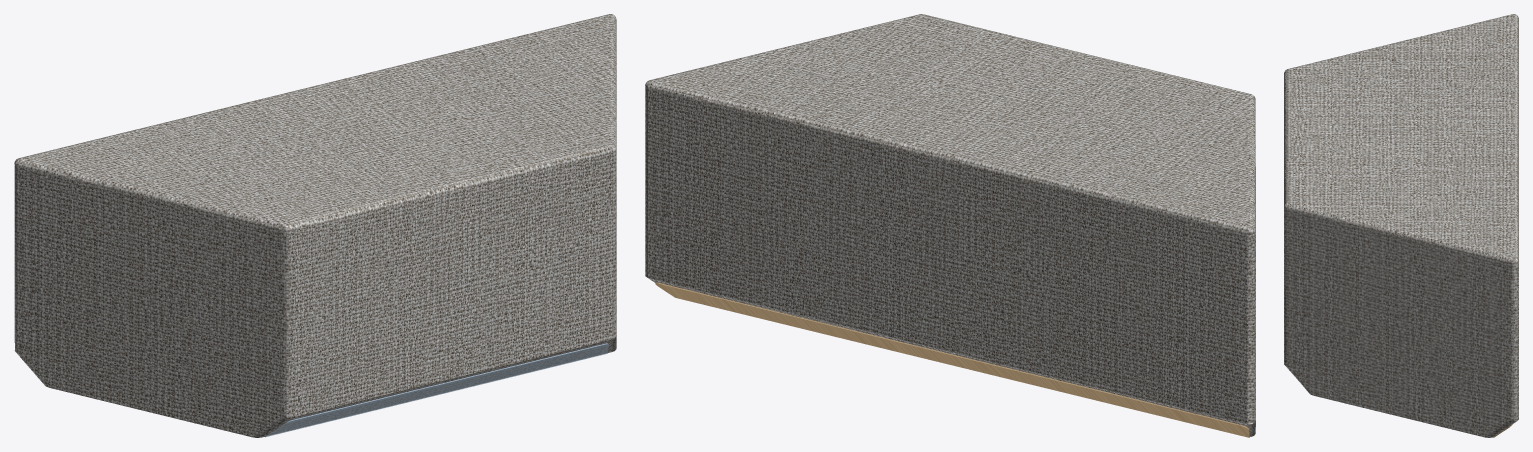
The picture shows the model from 3 angles, left to right: view 1: azimuth 30°, elevation 25°; view 2: azimuth 150°, elevation 25°; view 3: azimuth 270°, elevation 25°; orthographic projection. The views are drawn at different scales.
Visible parts, largest first — view 1: 0 (×2); view 2: 0 (×2); view 3: 0.
Boxes of the visible parts, x1,y1,x2,y2 form: 0 (×2): (14,14,616,437); 0 (×2): (645,14,1255,437); 0: (1284,14,1518,437).
Bounding box in the file's own units: 1.19 × 0.4231 × 0.4763.
4 materials, 2 textured.
